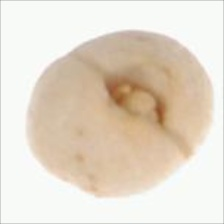L3: (101, 63, 171, 125)
L4: (26, 28, 215, 200)
